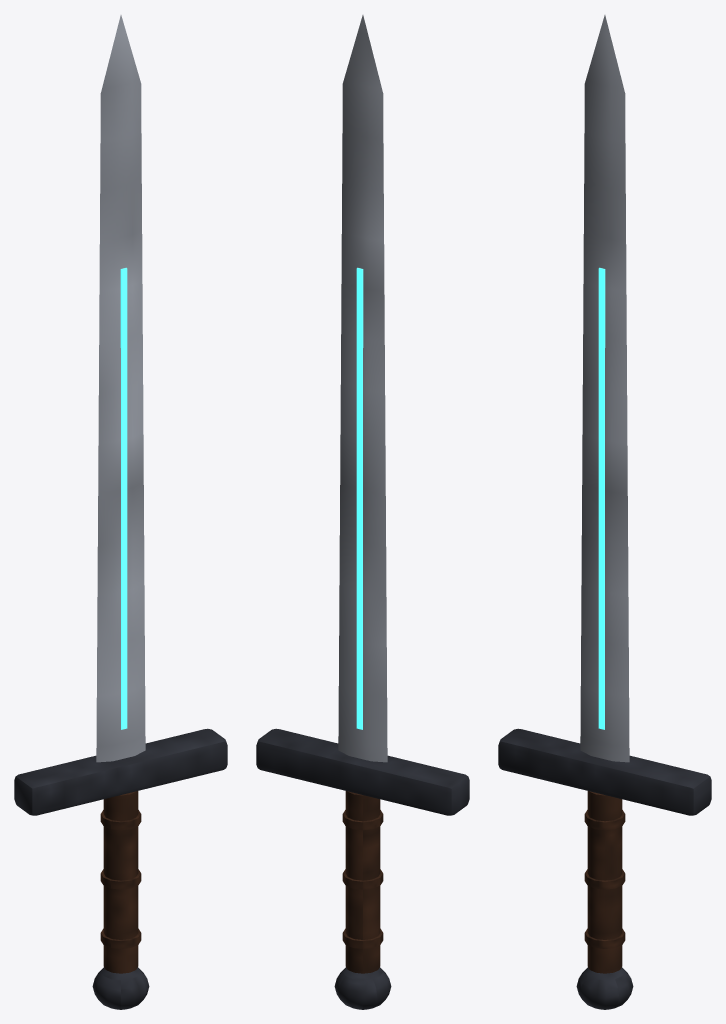
The model's file is lamina_do_iniciado.glb.
3 views of the same model, side by side, from view 1: azimuth 30°, elevation 25°; view 2: azimuth 150°, elevation 25°; view 3: azimuth 330°, elevation 25° (orthographic).
Visible parts, largest first — view 1: lamina_do_iniciado; view 2: lamina_do_iniciado; view 3: lamina_do_iniciado.
Boxes of the visible parts, bbox=[...] form: lamina_do_iniciado: bbox=[14, 15, 227, 1009]; lamina_do_iniciado: bbox=[256, 15, 469, 1009]; lamina_do_iniciado: bbox=[498, 15, 711, 1009].
Size of the model in its own units: 0.21 by 1 by 0.052.
1 material, 1 textured.
